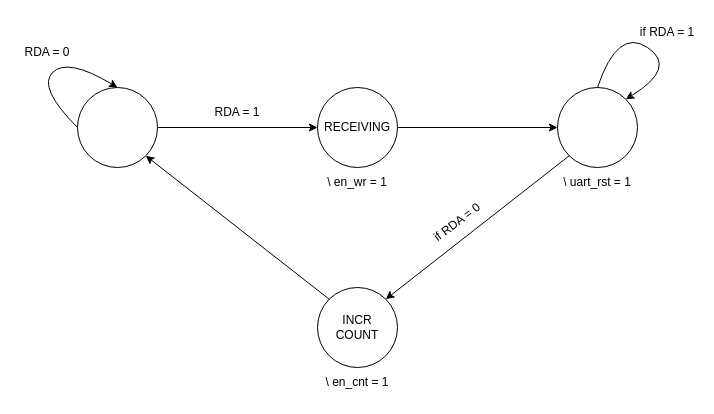
Image size: 714x414. Some labels were removed from this diagram. Here are the shapes that lost their labels. From the top down, the box of each, then its label:
(76, 86, 158, 168): IDLE
(556, 86, 638, 168): OK RECEIVE
